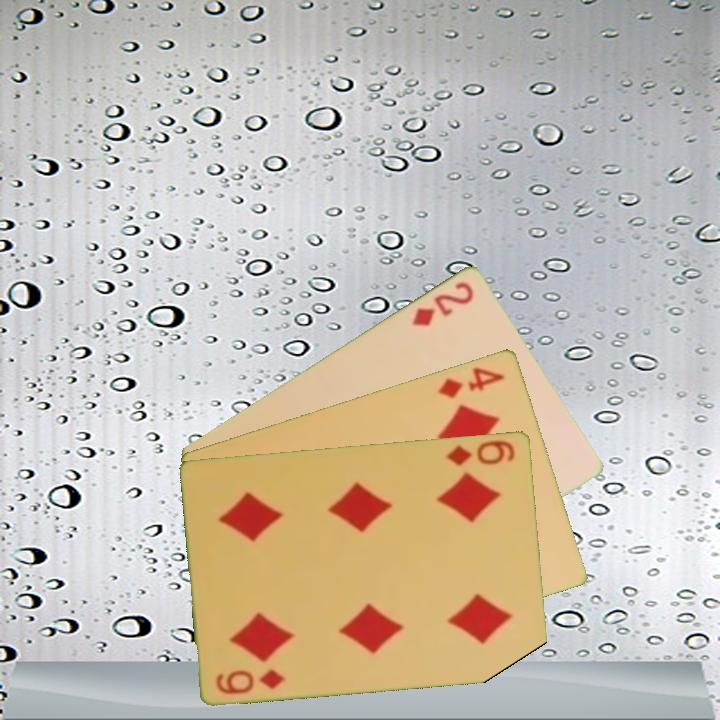2d: (408, 277, 477, 329)
4d: (434, 363, 508, 401)
6d: (212, 665, 289, 697), (443, 436, 518, 468)
